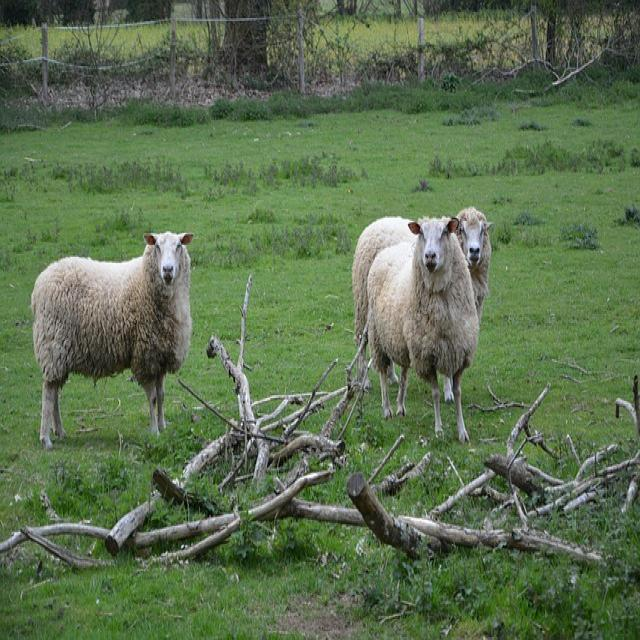sheep: (30, 230, 194, 451), (365, 214, 479, 444)
